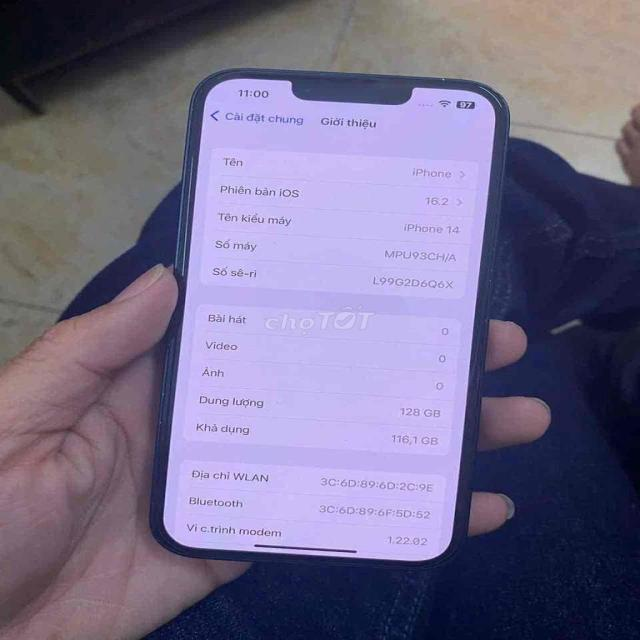gen_14: (149, 56, 515, 580)
